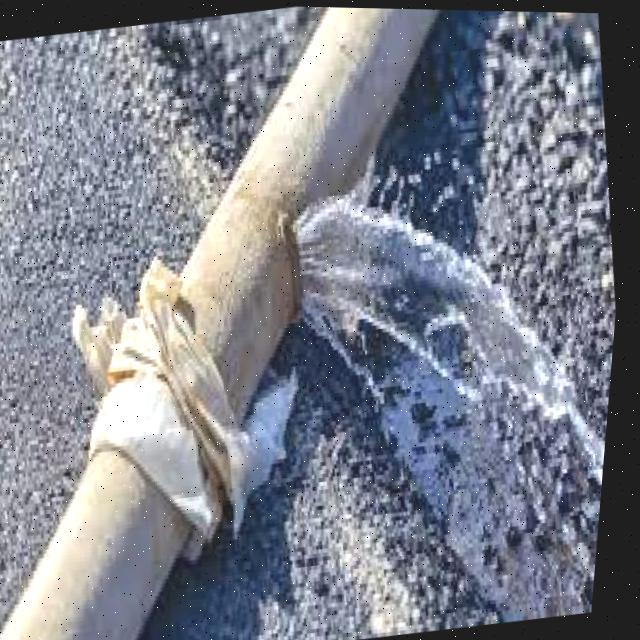corrosion: (179, 149, 498, 449)
